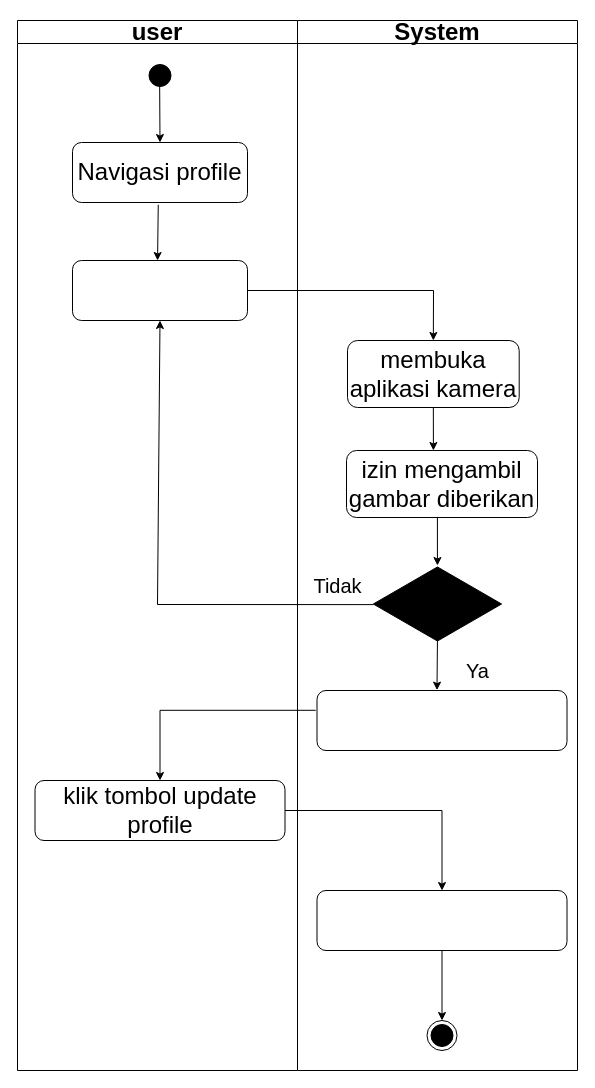
This 595x1088 diagram has some shape labels left out. Here are the shapes that lost their labels. From the top down, the centre of each, then its label:
[160,290]: Update foto profile
[441,720]: upload gambar kedalam database
[441,920]: gambar profile baru diterapkan
